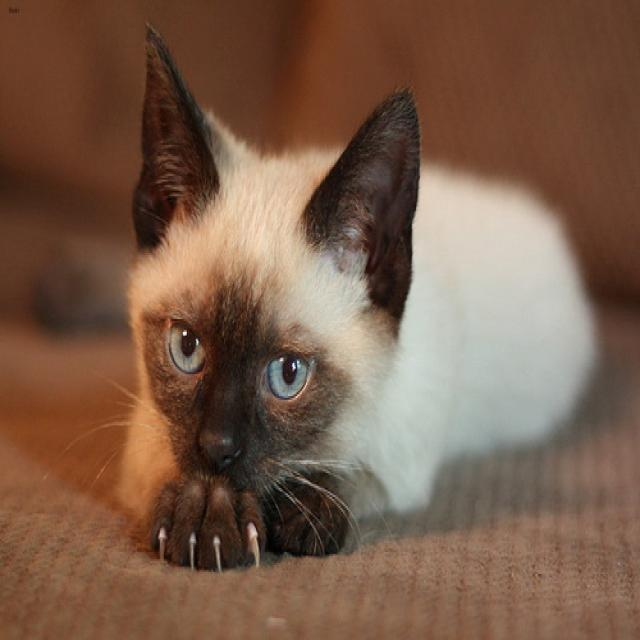Siamese: (125, 17, 422, 499)
